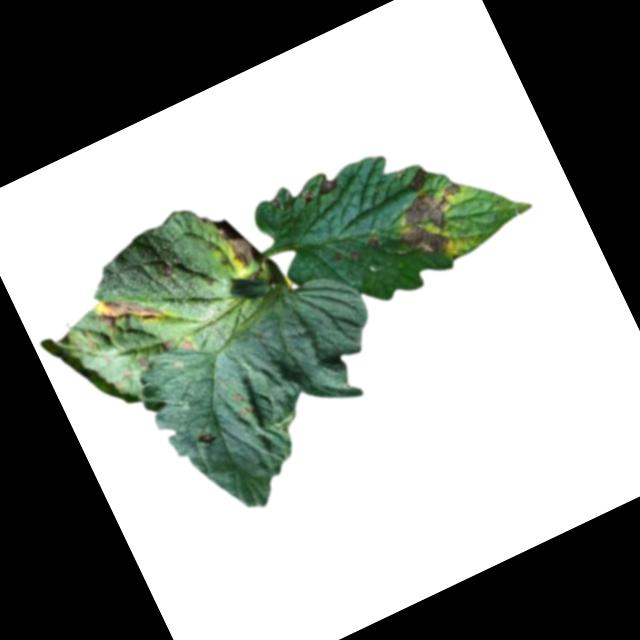Early_blight: (389, 178, 486, 269), (91, 277, 165, 339), (212, 209, 264, 274), (314, 172, 344, 197), (195, 426, 219, 448), (180, 334, 198, 353), (365, 233, 381, 250), (346, 245, 360, 260)
